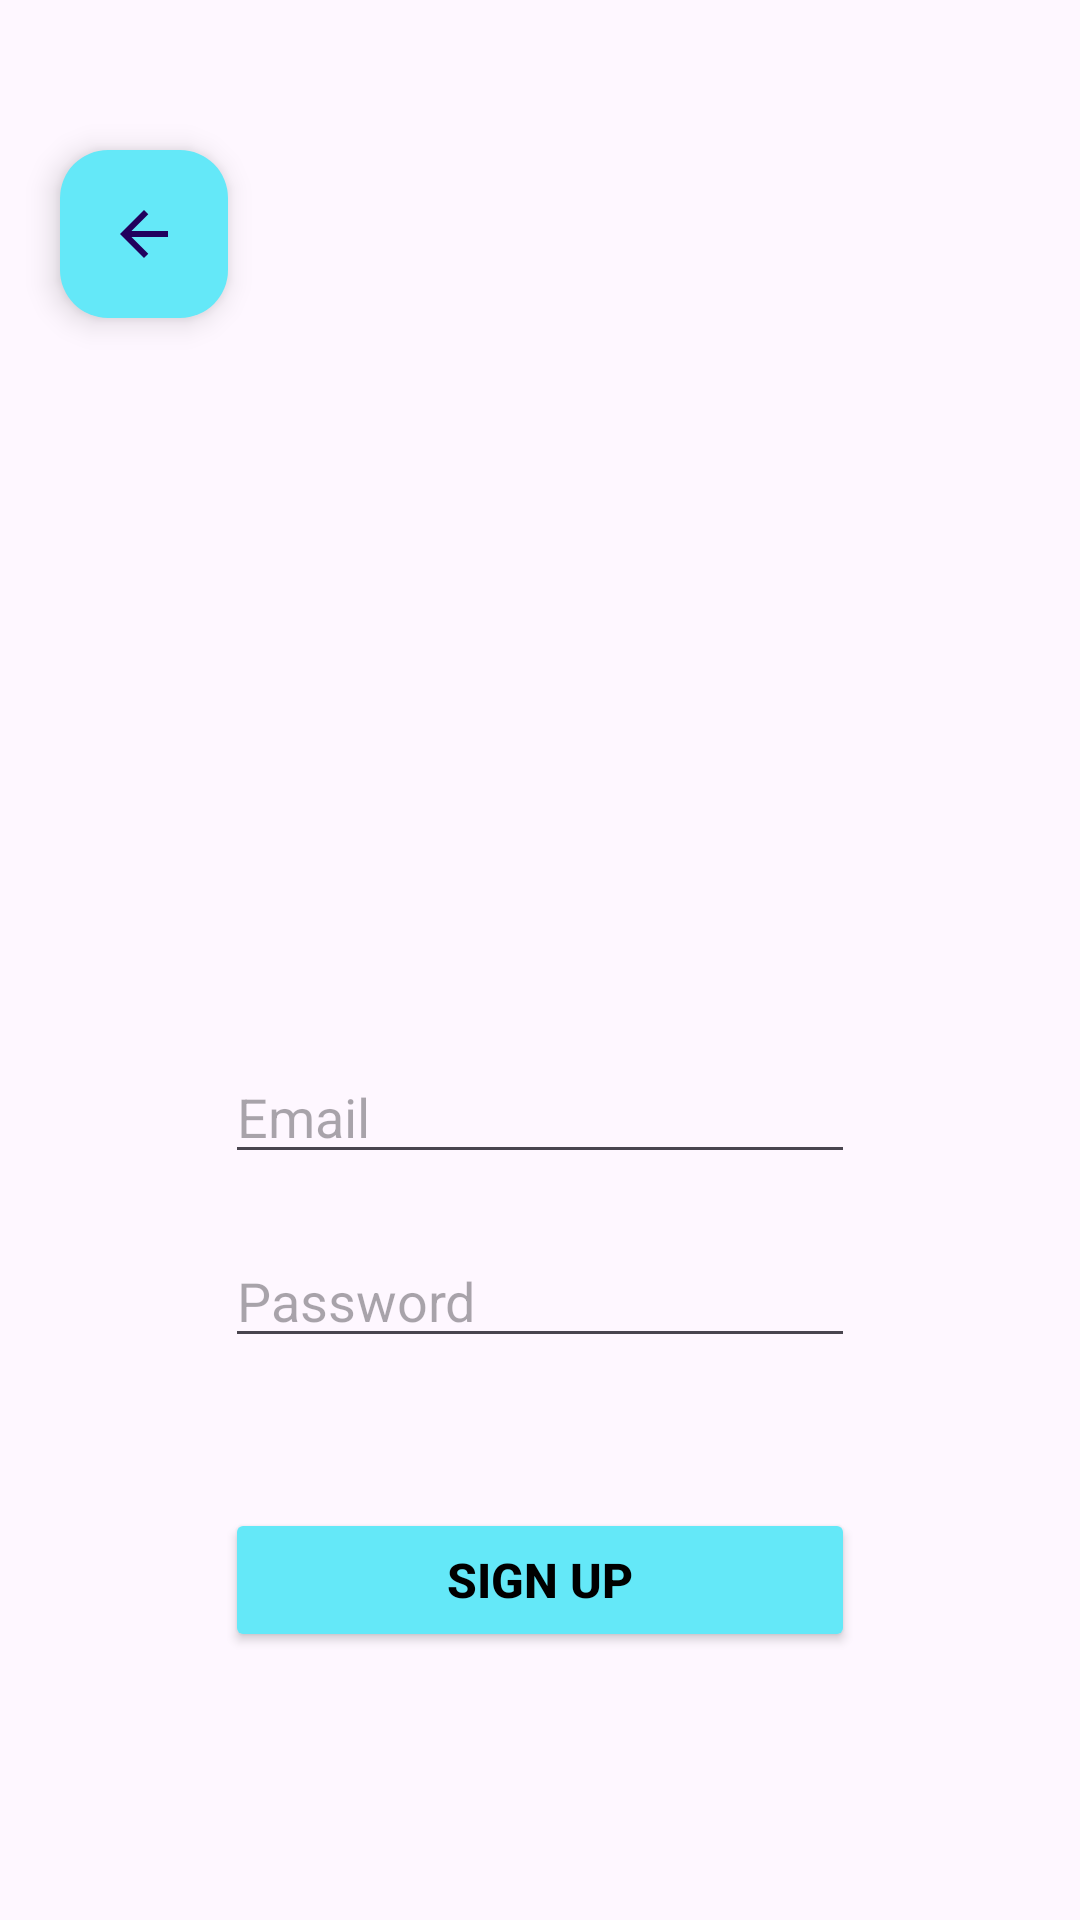

Where to tap for icons on this 1080w x 1920h app screen, as (x,y):
arrow back: (144,234)
